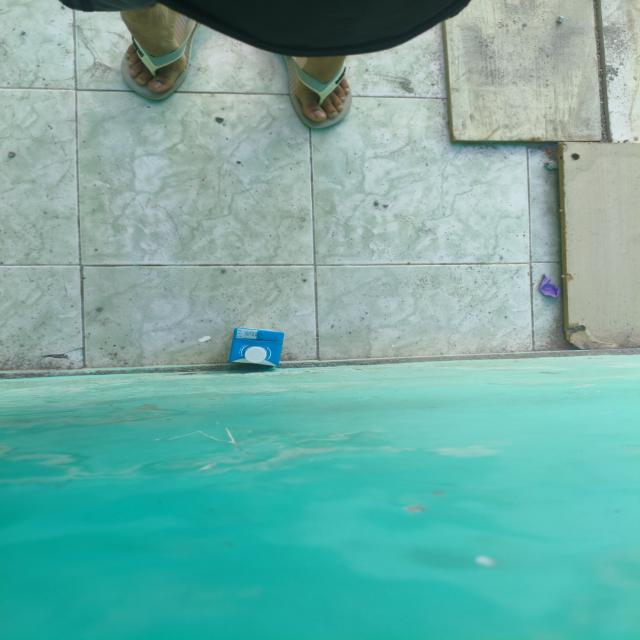Caixa de Leite: (227, 327, 285, 368)
